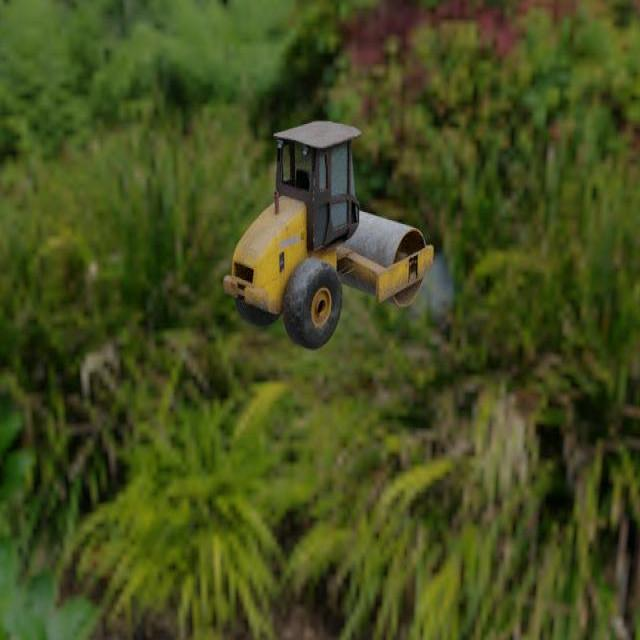Roller: (222, 120, 433, 351)
